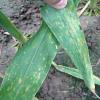Corn rust leaf: (40, 7, 97, 94), (2, 21, 60, 99)
